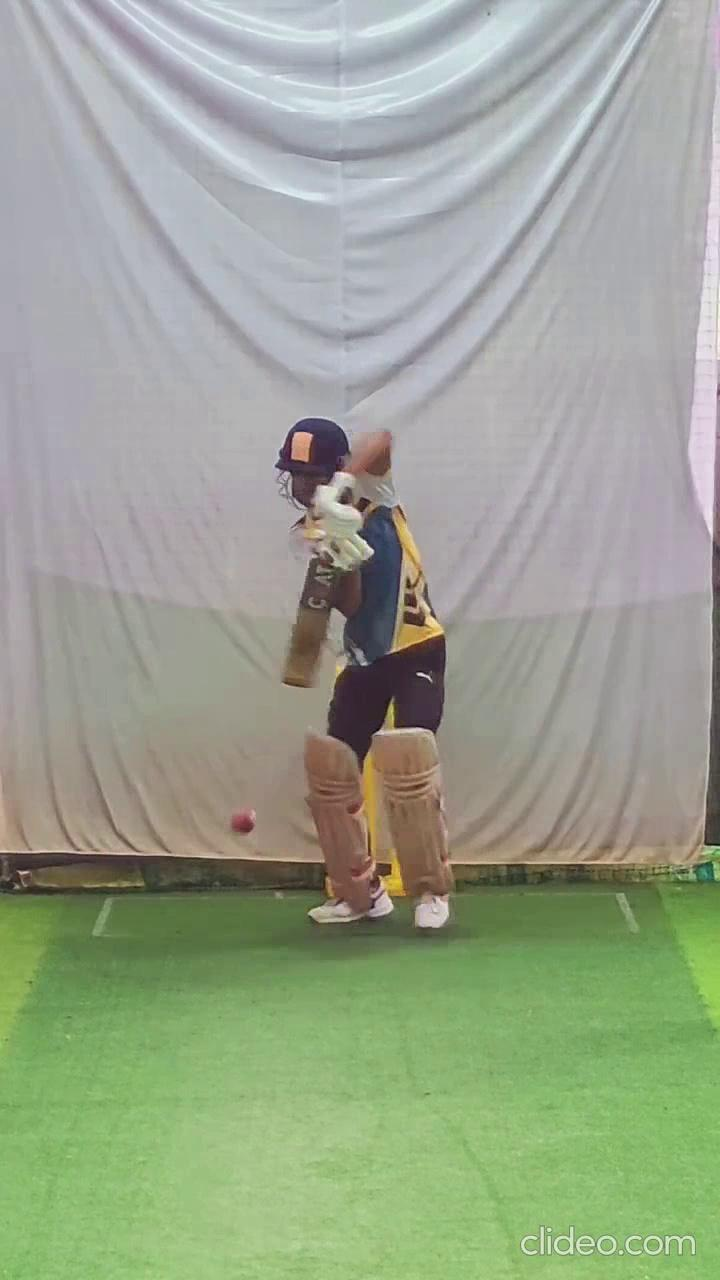bat: (279, 555, 346, 694)
